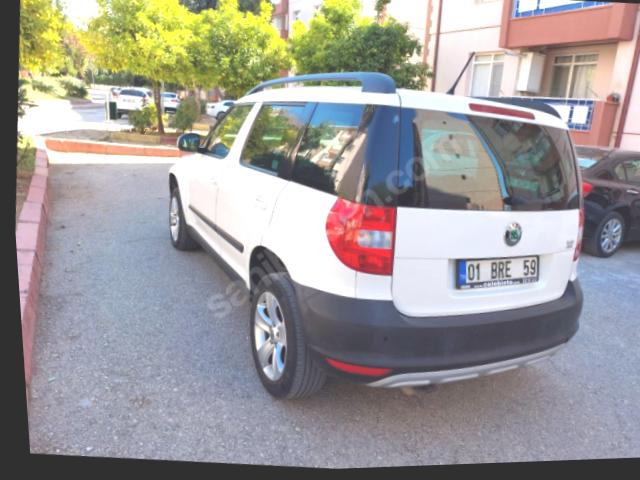plaka: (456, 256, 537, 289)
